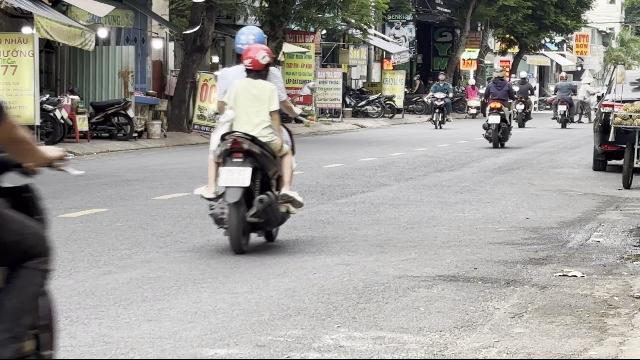helmet: (231, 26, 271, 58), (241, 46, 273, 78)
licenseplate: (218, 166, 250, 186)
motorcyclist: (194, 25, 304, 251)
